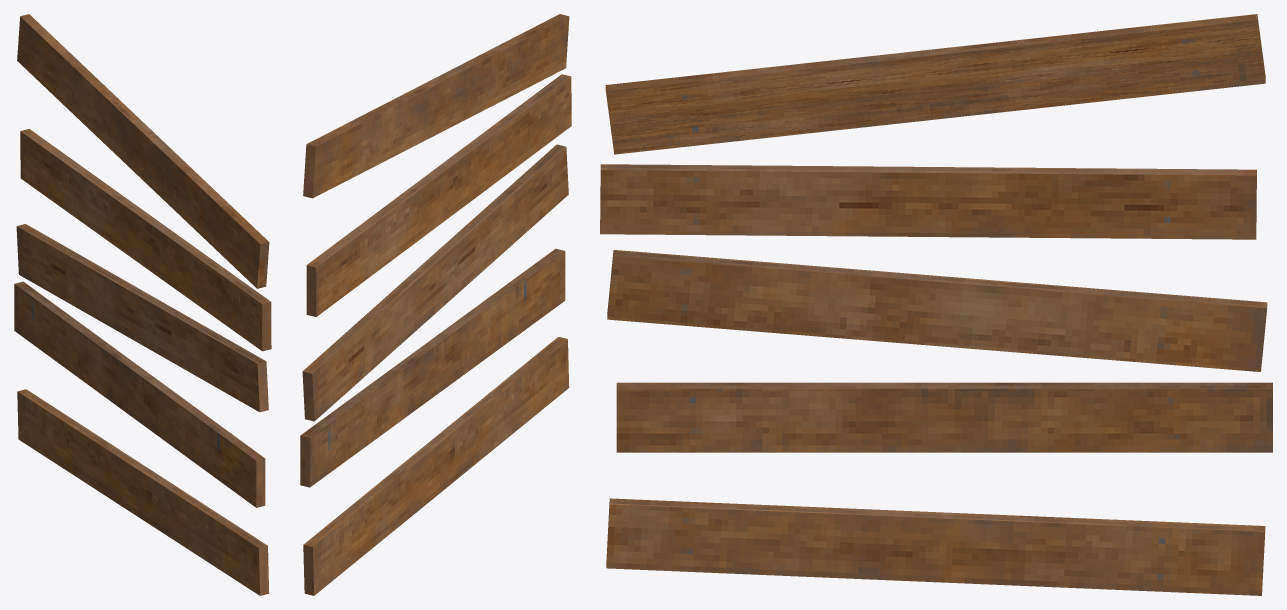
Rendered from SM_WoodenBoards.fbx.
The picture shows the model from 3 angles, left to right: view 1: azimuth 30°, elevation 25°; view 2: azimuth 150°, elevation 25°; view 3: azimuth 270°, elevation 25°; orthographic projection. The views are drawn at different scales.
Parts seen in each view (by area): view 1: SM_WoodenBoards; view 2: SM_WoodenBoards; view 3: SM_WoodenBoards.
Part boxes in pixels (x1,y1,x2,y2): SM_WoodenBoards: (14,14,271,595); SM_WoodenBoards: (300,14,571,595); SM_WoodenBoards: (600,14,1272,595).
Bounding box in the file's own units: 4.34 × 194 × 205.
